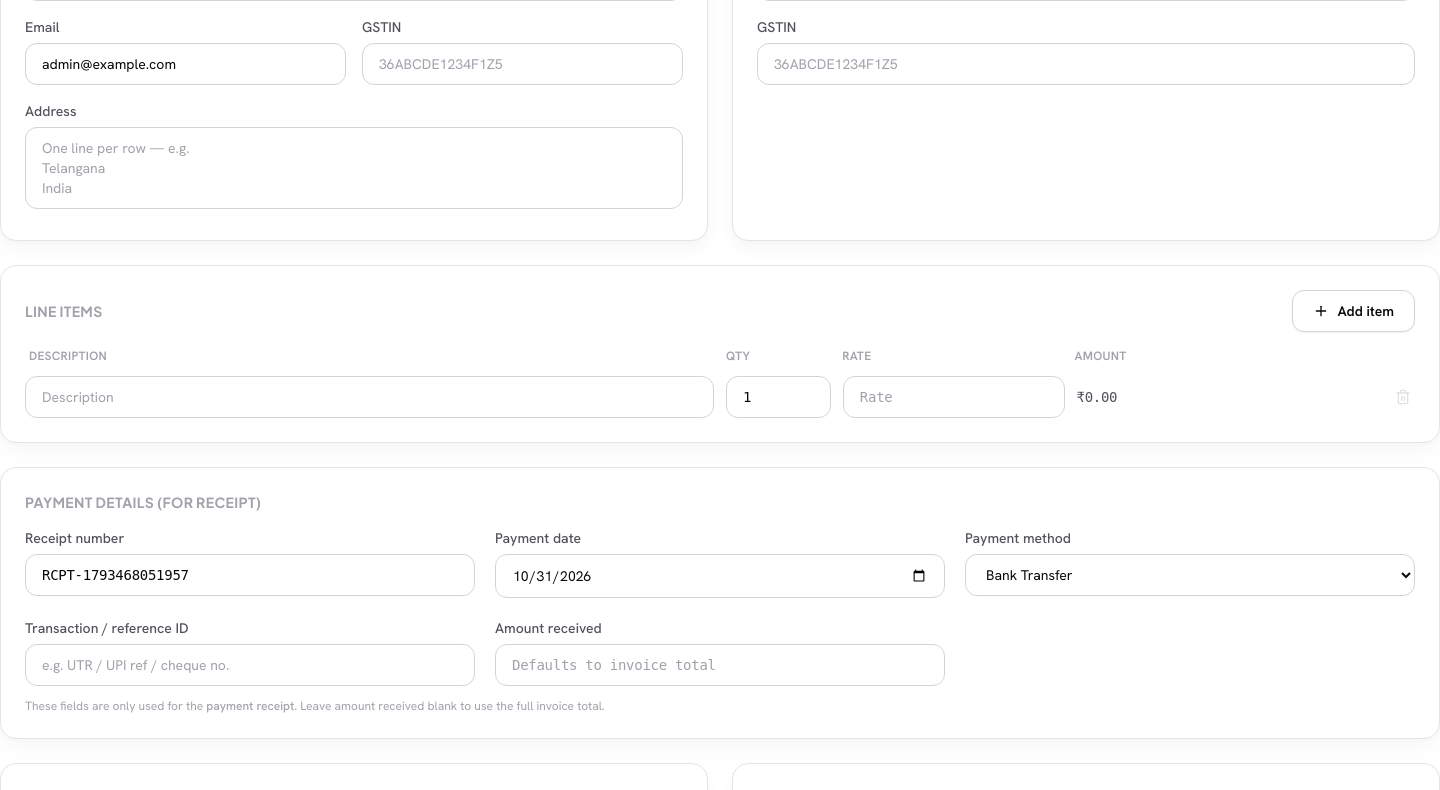
InvoicesPage discounts › applies a percentage discount to the live summary before GST
(page scrolled)
Expected: the field showing "admin@example.com" below "Email" is shown, x1=25 y1=43 x2=346 y2=85
Type "Consulting" into the field with placeholder "Description".
click(370, 397); type("Consulting")  # box x1=25 y1=376 x2=714 y2=418
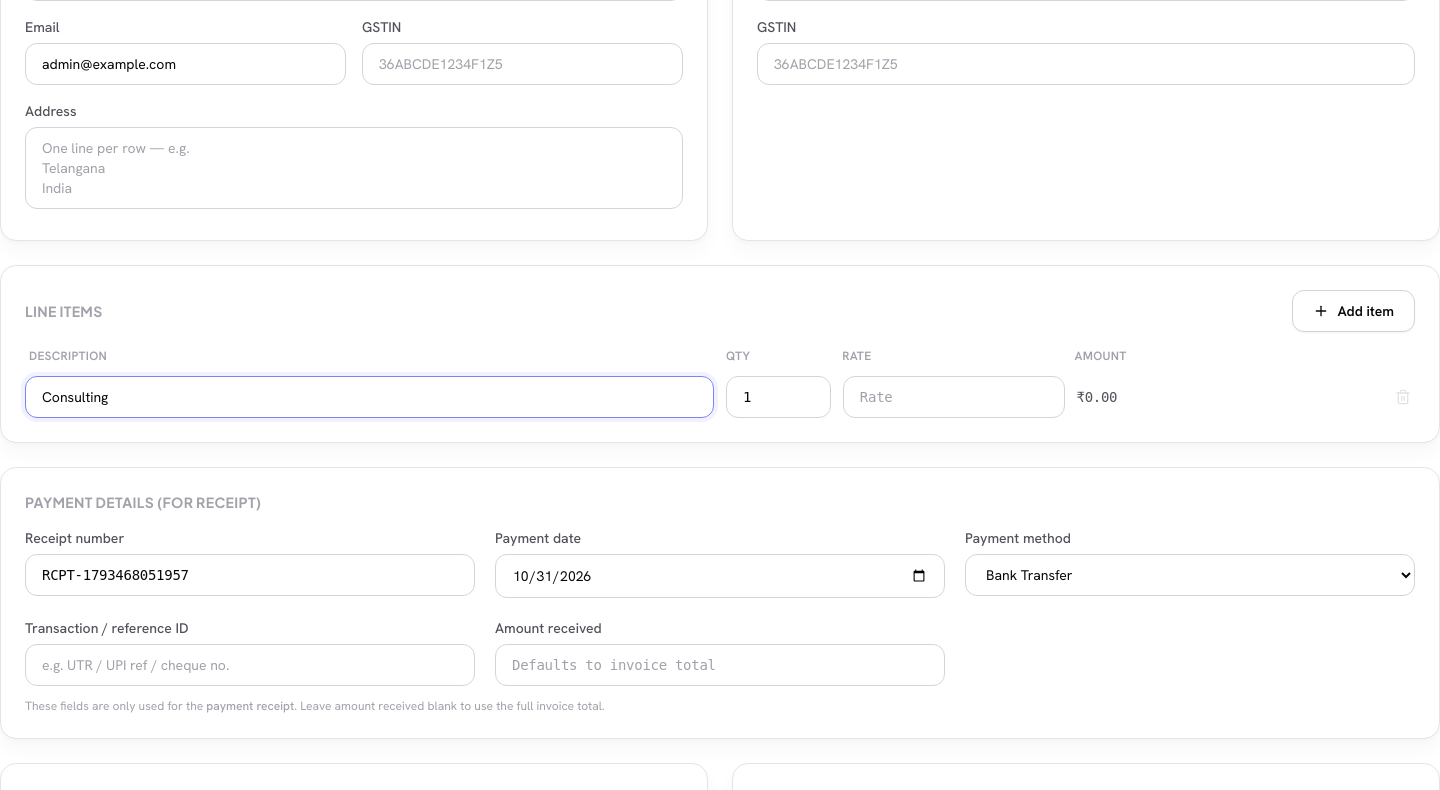
Type "1000" into the number field with placeholder "Rate".
click(954, 397); type("1000")  # box x1=843 y1=376 x2=1064 y2=418
(page scrolled)
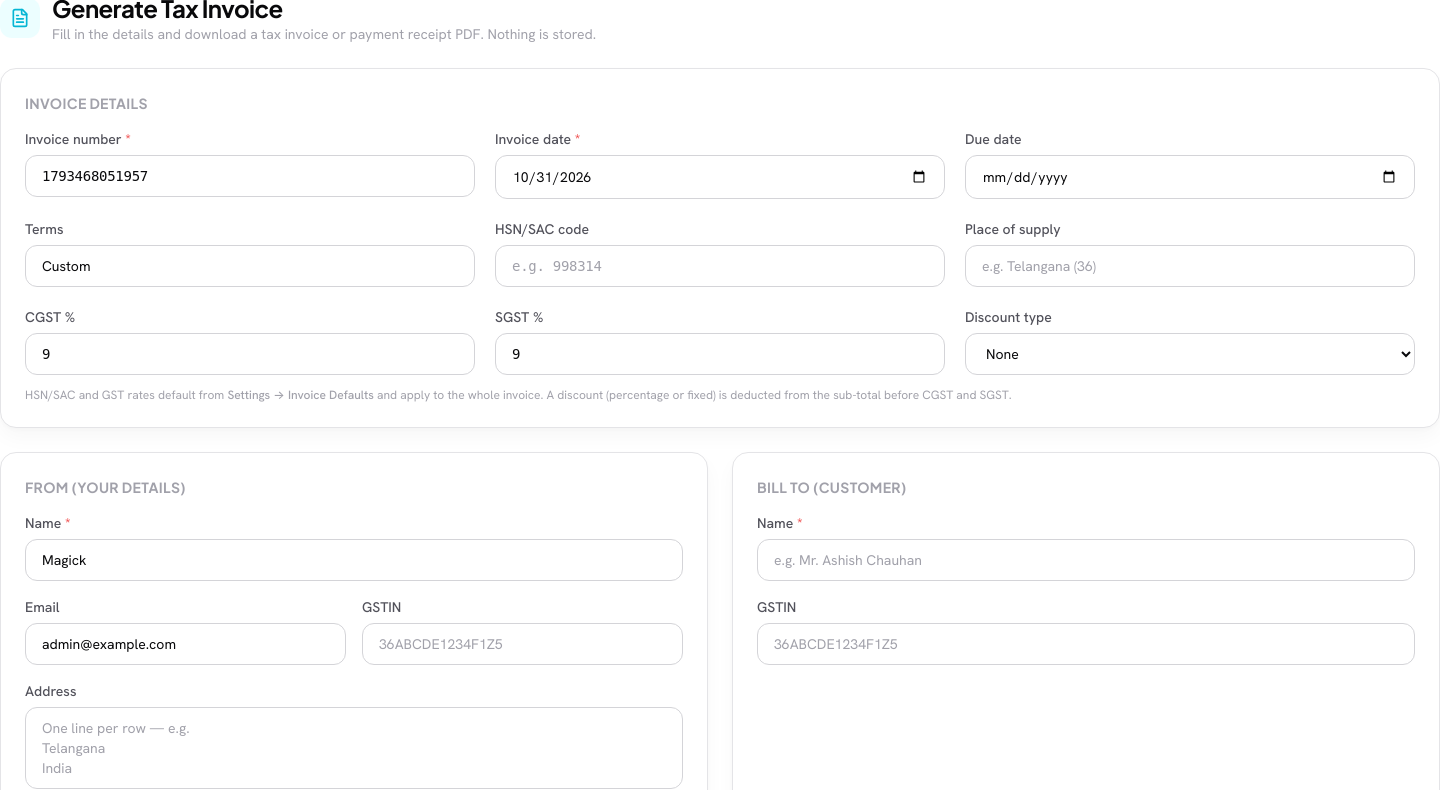
Select "Percentage" in the dropdown named "Discount type" at (1190, 354), box x1=965 y1=333 x2=1415 y2=375
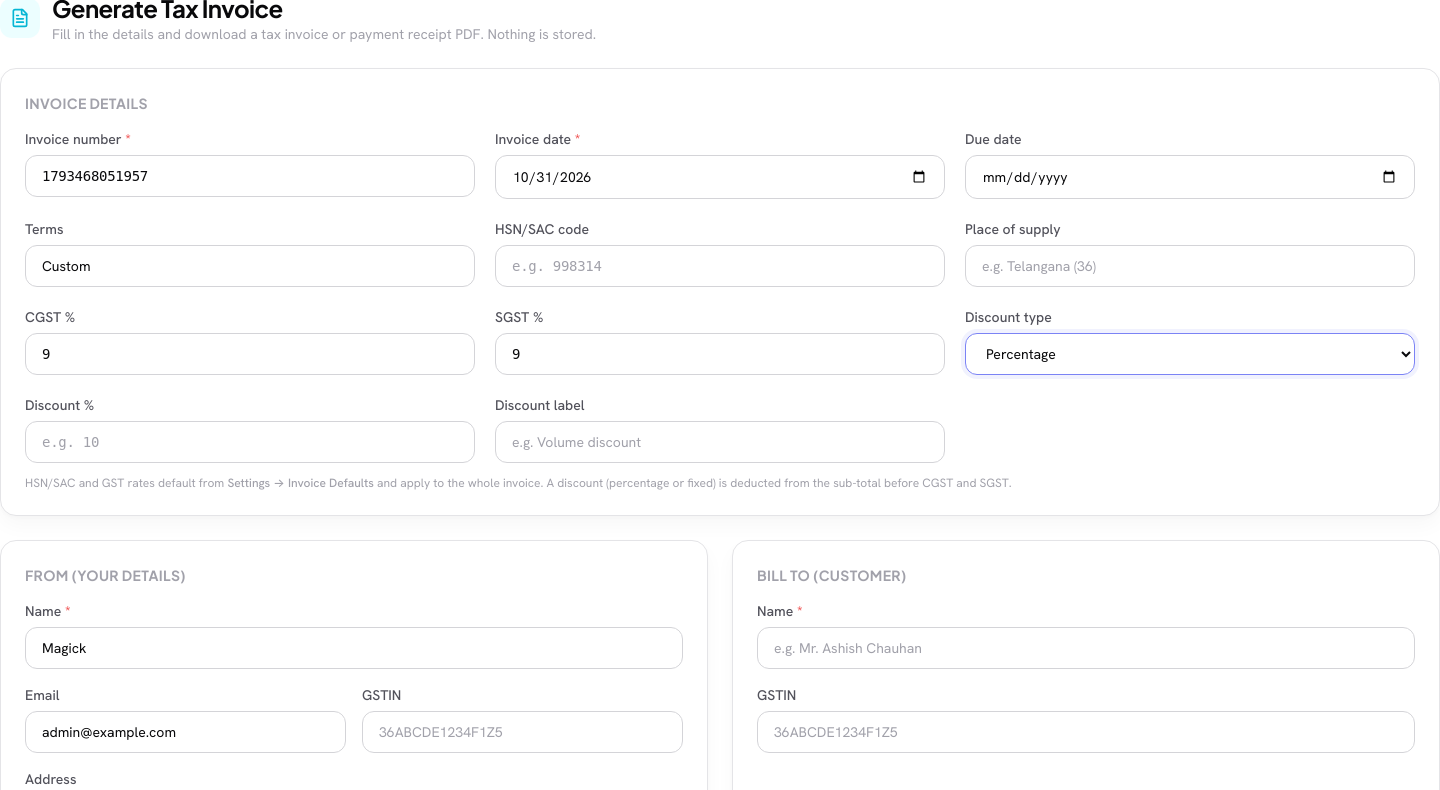
Type "10" into the number field named "Discount value".
click(250, 442); type("10")  # box x1=25 y1=421 x2=475 y2=463
(page scrolled)
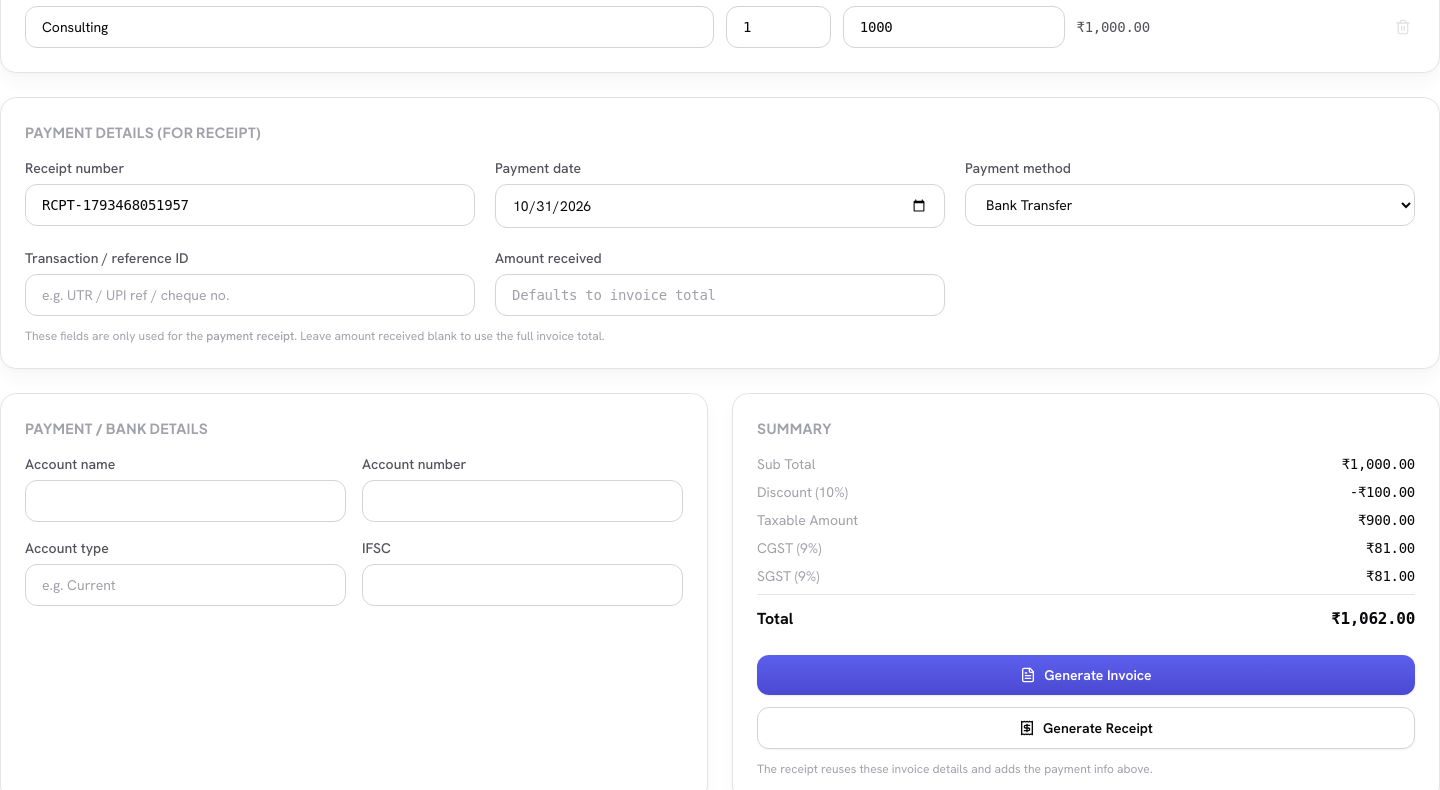
Expected: the text "Discount (10%)" is shown, x1=757 y1=482 x2=848 y2=502
Expected: the text "-₹100.00" is shown, x1=1350 y1=482 x2=1415 y2=502
Expected: the text "Taxable Amount" is shown, x1=757 y1=510 x2=858 y2=530
